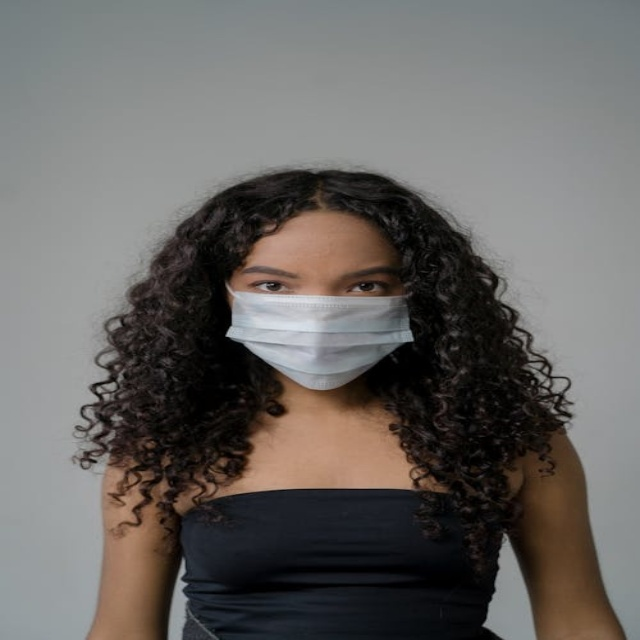Mascara: (222, 282, 417, 389)
Sin_gafas: (234, 265, 398, 305)
